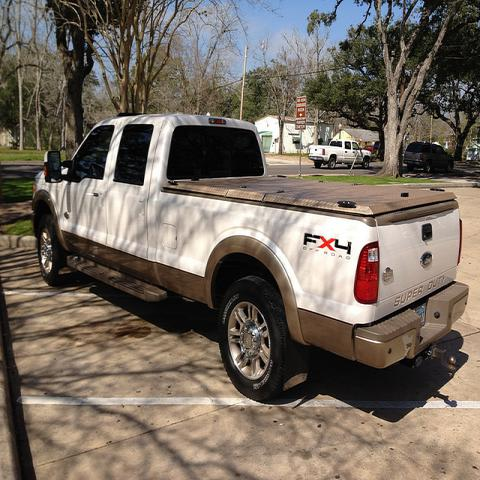car: (404, 142, 454, 174), (373, 141, 379, 155)
truck: (30, 112, 466, 405), (307, 140, 373, 170)
